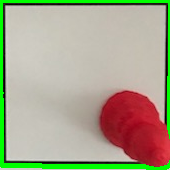Red Bishop: (95, 88, 170, 167)
